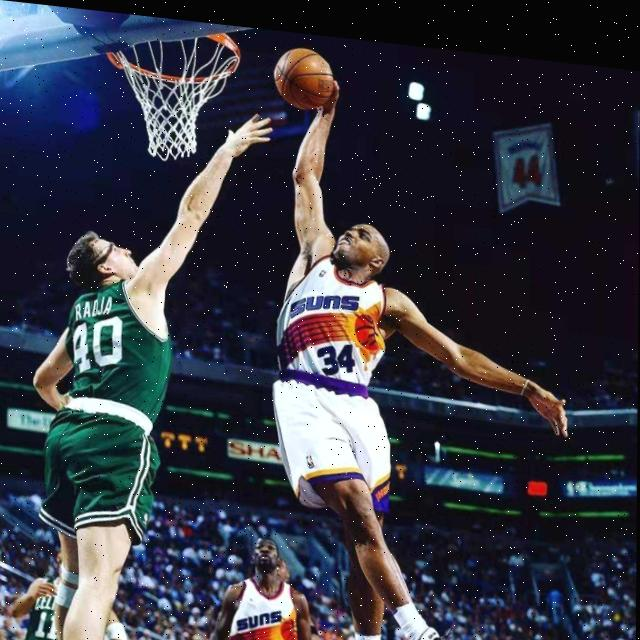basketball: (273, 44, 336, 114)
hoop: (104, 16, 240, 169)
